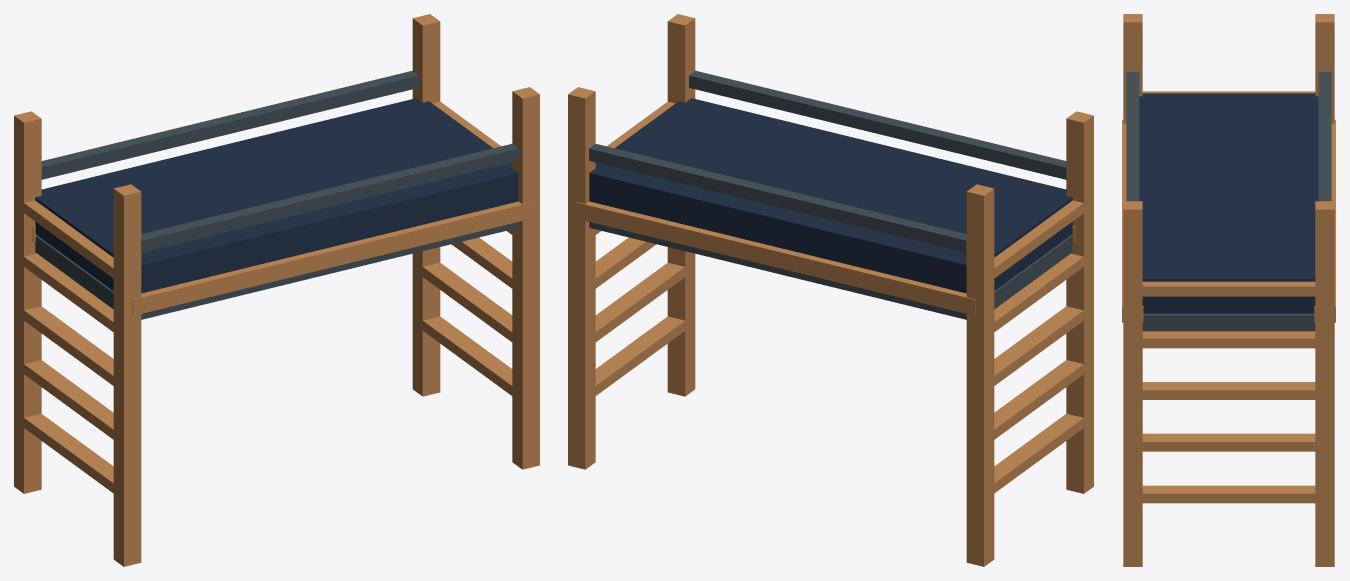
File: loft_bed_4-D0fXTcnx.glb
3 renders of one model, left to right at view 1: azimuth 30°, elevation 25°; view 2: azimuth 150°, elevation 25°; view 3: azimuth 270°, elevation 25°, orthographic. The views are drawn at different scales.
Size of the model in its own units: 2.15 by 1.83 by 0.9911.
